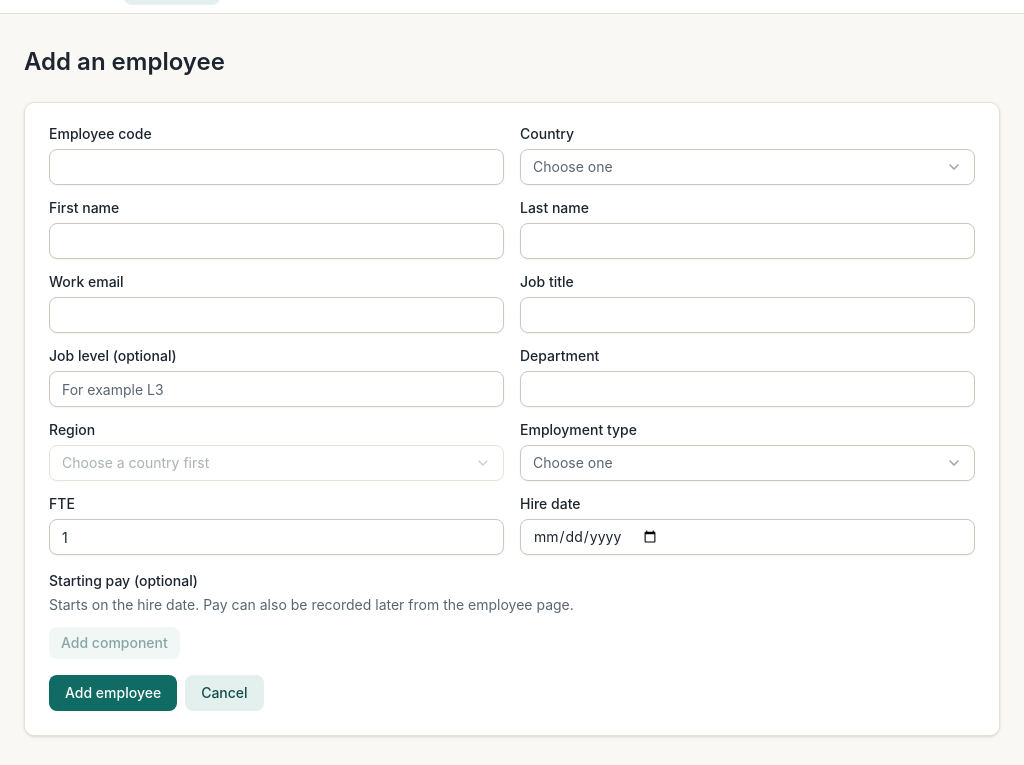
Test: adding an employee › explains what is missing before sending anything
(page scrolled)
Expected: the heading "Add an employee" is shown, [24,47,225,76]
Click the button "Add employee" at (113, 693), box [49,675,177,711]
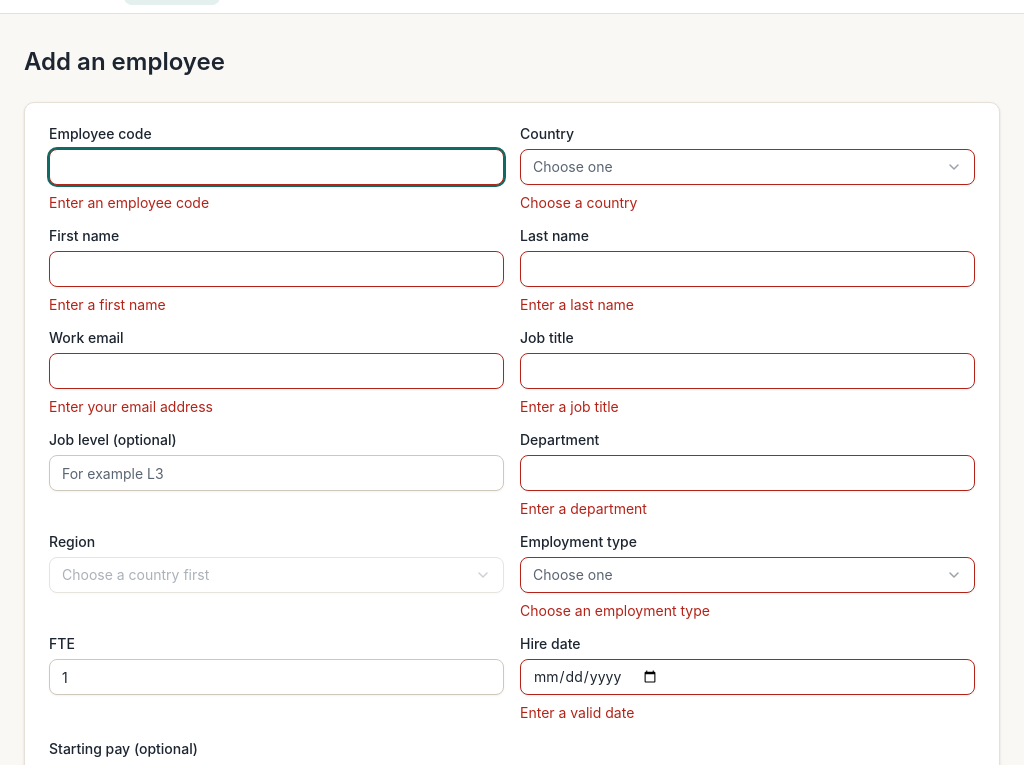
Now the text "Enter an employee code" is shown, box [49,194,209,211]
Now the text "Enter a first name" is shown, box [49,296,166,313]
Now the text "Choose a country" is shown, box [520,194,638,211]
